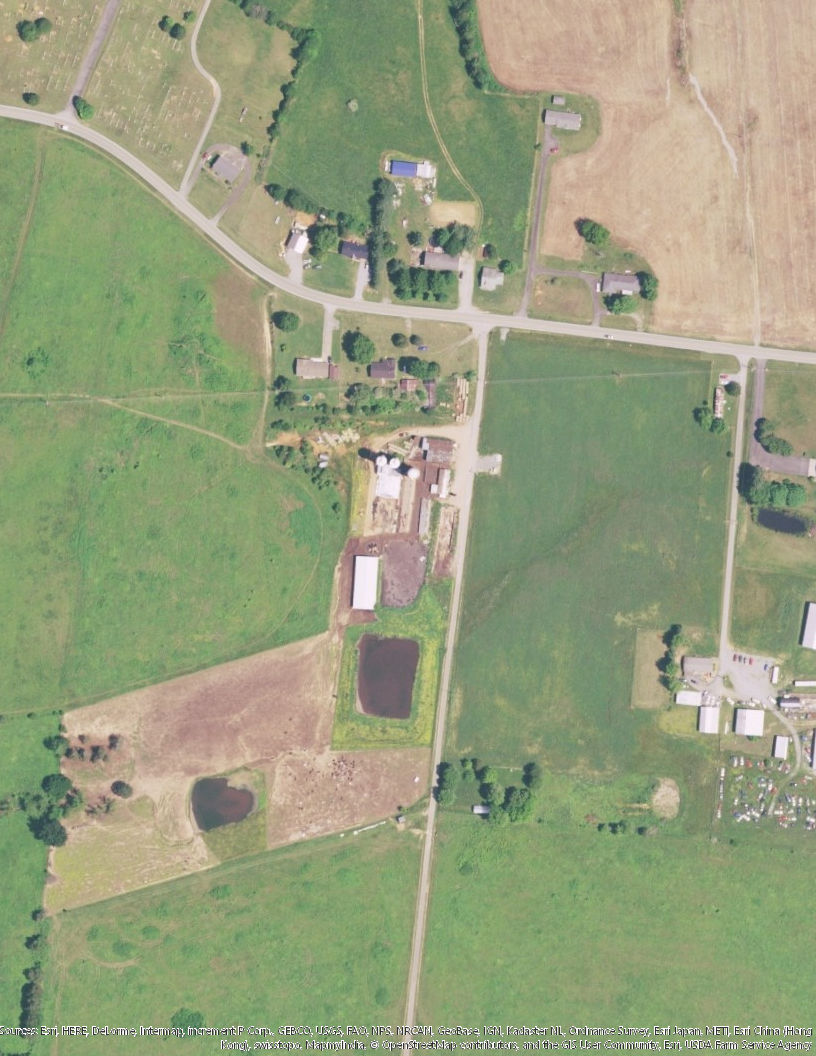cafo: (349, 550, 386, 618)
